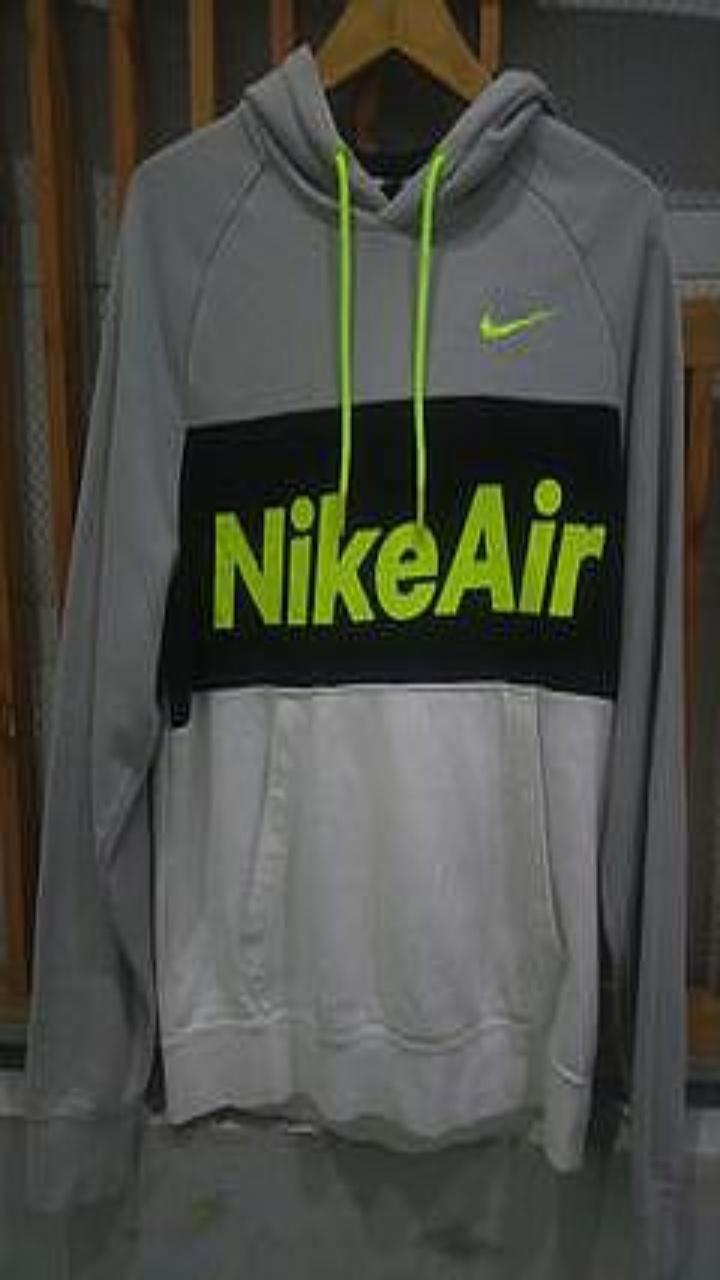Hoodie: (26, 46, 685, 1275)
